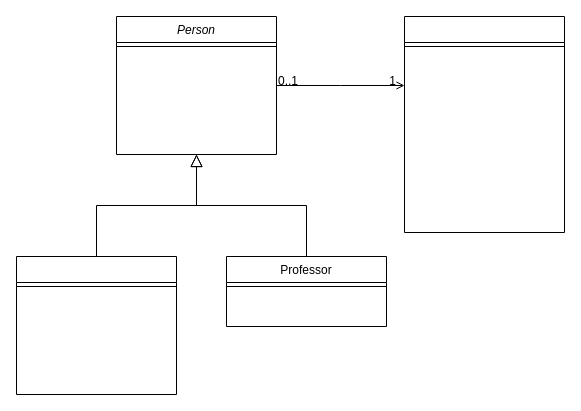
Image size: 581x411. Some labels were removed from this diagram. The shapes that lost their labels are listed below. From the top down, each one's centre as x and y in pixels, then its label:
At [484,124]: "Address".
At [96,325]: "Student".
